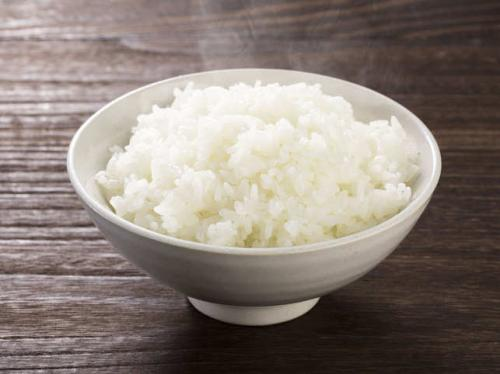Nasi Putih: (59, 48, 443, 273)
